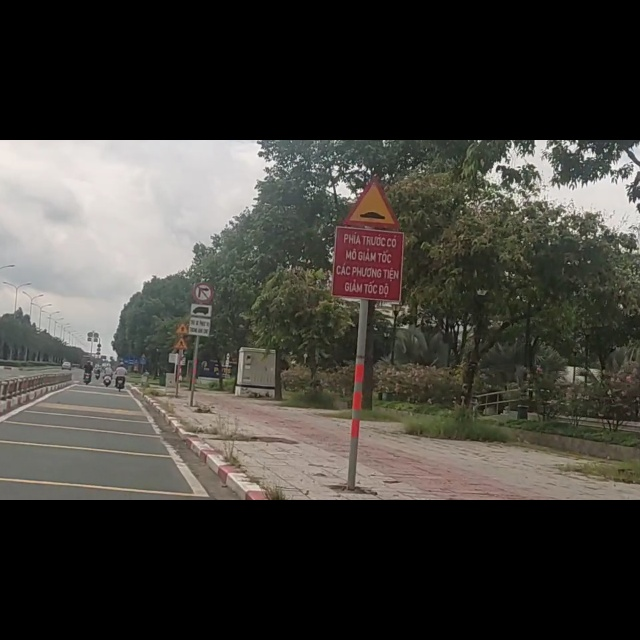bien_cam: (341, 60, 402, 158), (189, 288, 211, 351), (193, 254, 214, 287), (173, 352, 188, 372), (175, 325, 188, 346)
